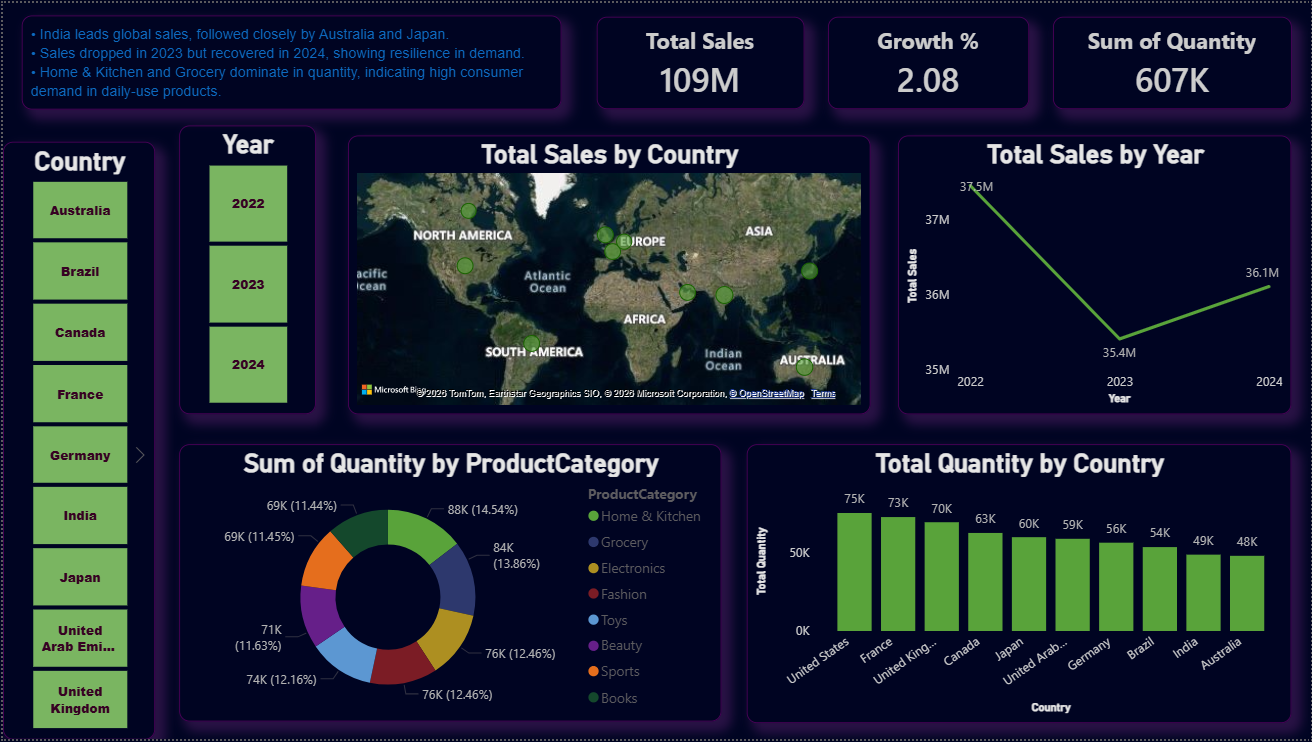

The page's visual inventory and layout, read from the dashboard file:
{"tool":"powerbi","page":{"name":"Page 1","canvas":[1280,720],"ordinal":0},"visuals":[{"type":"slicer","title":"Country","fields":{"Values":["Amazon_Global_Sales_Dataset.Country"]},"box":[0,119.8,149.2,584.5],"z":0},{"type":"cardVisual","fields":{"Data":["Amazon_Global_Sales_Dataset.Total Sales"]},"box":[580.8,13.5,203,90.5],"z":1000},{"type":"slicer","title":"Year","fields":{"Values":["Amazon_Global_Sales_Dataset.Year"]},"box":[172.4,119.8,133.3,282.5],"z":2000},{"type":"donutChart","fields":{"Category":["Amazon_Global_Sales_Dataset.ProductCategory"],"Y":["Sum(Amazon_Global_Sales_Dataset.Quantity)"]},"box":[172.4,431.7,530.7,271.5],"z":3000},{"type":"cardVisual","fields":{"Data":["Sum(Amazon_Global_Sales_Dataset.Quantity)"]},"box":[1027.2,13.5,233.6,90.5],"z":4000},{"type":"lineChart","fields":{"Category":["Amazon_Global_Sales_Dataset.Year"],"Y":["Amazon_Global_Sales_Dataset.Total Sales"]},"box":[875.5,129.6,385.2,272.7],"z":5000},{"type":"map","fields":{"Category":["Amazon_Global_Sales_Dataset.Country"],"Size":["Amazon_Global_Sales_Dataset.Total Sales"]},"box":[337.5,129.6,511.1,272.7],"z":6000},{"type":"cardVisual","fields":{"Data":["Amazon_Global_Sales_Dataset.Growth %"]},"box":[807.1,13.5,196.9,90.5],"z":7000},{"type":"textbox","box":[18.3,12.2,535.6,91.7],"z":8000},{"type":"columnChart","fields":{"Y":["Amazon_Global_Sales_Dataset.Total Quantity"],"Category":["Amazon_Global_Sales_Dataset.Country"]},"box":[727.6,431.7,533.2,272.7],"z":9000}]}

Visuals, with their boxes in screenshot pixels (x1, y1, x2, y2), scaled from the page's 1280x720 canvas onto the 1312x742 screenshot:
"Country" slicer: 0 123 153 726
cardVisual - Amazon_Global_Sales_Dataset.Total Sales: 595 14 803 107
"Year" slicer: 177 123 313 415
donutChart - Amazon_Global_Sales_Dataset.ProductCategory x Sum(Amazon_Global_Sales_Dataset.Quantity): 177 445 721 725
cardVisual - Sum(Amazon_Global_Sales_Dataset.Quantity): 1053 14 1292 107
lineChart - Amazon_Global_Sales_Dataset.Year x Amazon_Global_Sales_Dataset.Total Sales: 897 134 1292 415
map - Amazon_Global_Sales_Dataset.Country x Amazon_Global_Sales_Dataset.Total Sales: 346 134 870 415
cardVisual - Amazon_Global_Sales_Dataset.Growth %: 827 14 1029 107
textbox: 19 13 568 107
columnChart - Amazon_Global_Sales_Dataset.Total Quantity x Amazon_Global_Sales_Dataset.Country: 746 445 1292 726
